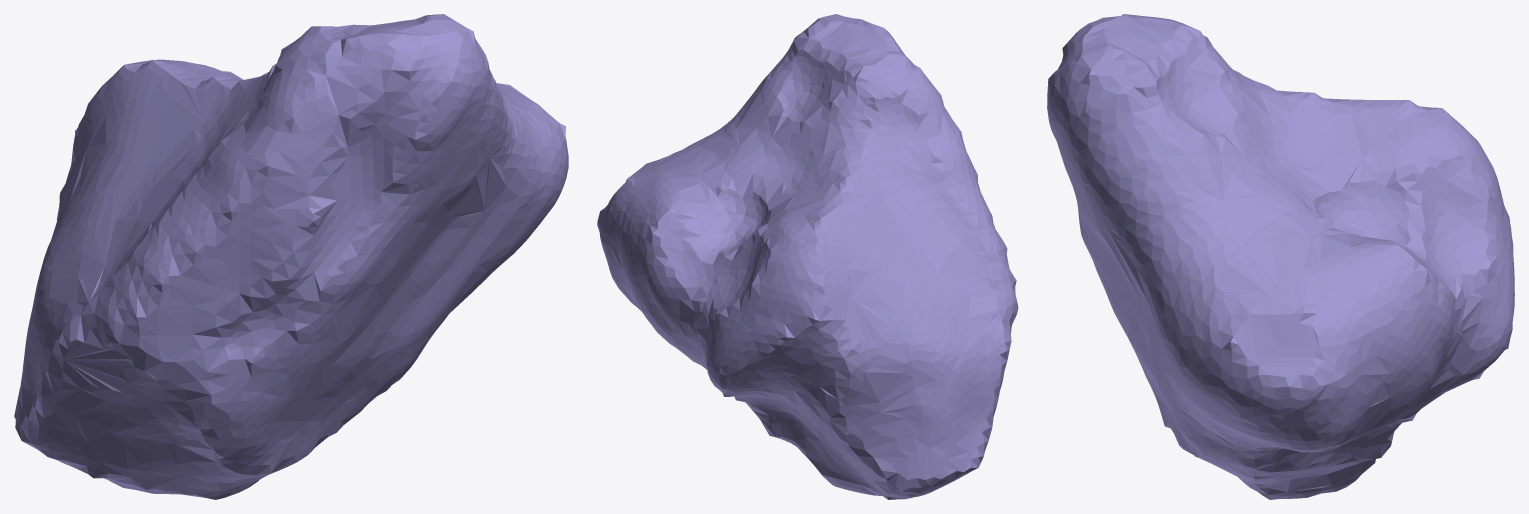
Rendered from Model_10280_LH__Medial_pulvinar_(MPul).obj.
3 renders of one model, left to right at view 1: azimuth 30°, elevation 25°; view 2: azimuth 150°, elevation 25°; view 3: azimuth 270°, elevation 25°, orthographic. The views are drawn at different scales.
Bounding box in the file's own units: 3.8 × 3.53 × 2.97.
